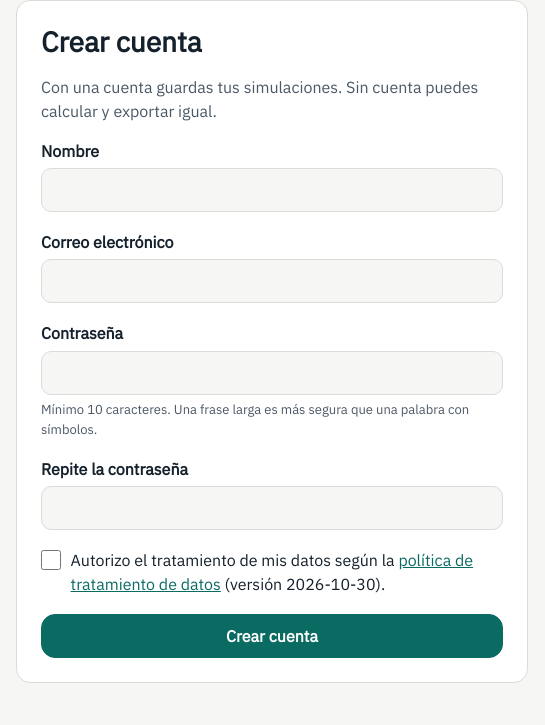
Scenario: ui/Registro (HU-01) › criterio HU-01: sin marcar la política no se crea la cuenta y se muestra el motivo
This screenshot has width=545, height=725.
Type "Ana Pérez" into the field labelled "Nombre" at point(272, 190), box [41,168,503,212]
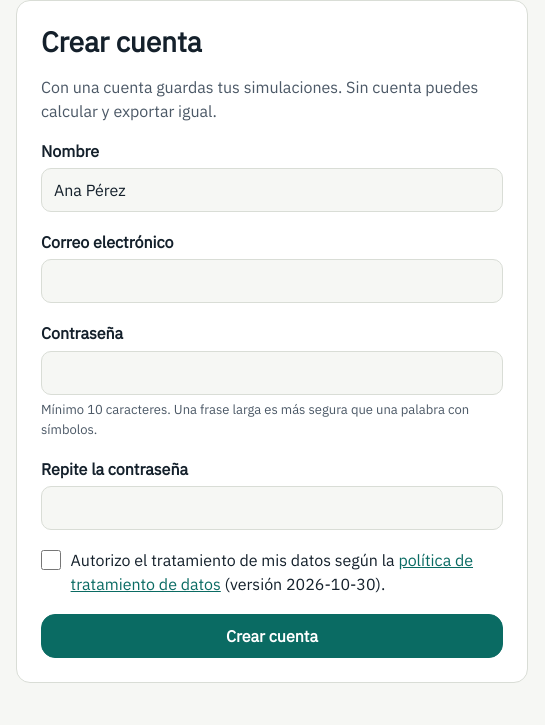
Type " Ana@Correo.co " into the field labelled "Correo electrónico" at point(272, 281), box [41,259,503,303]
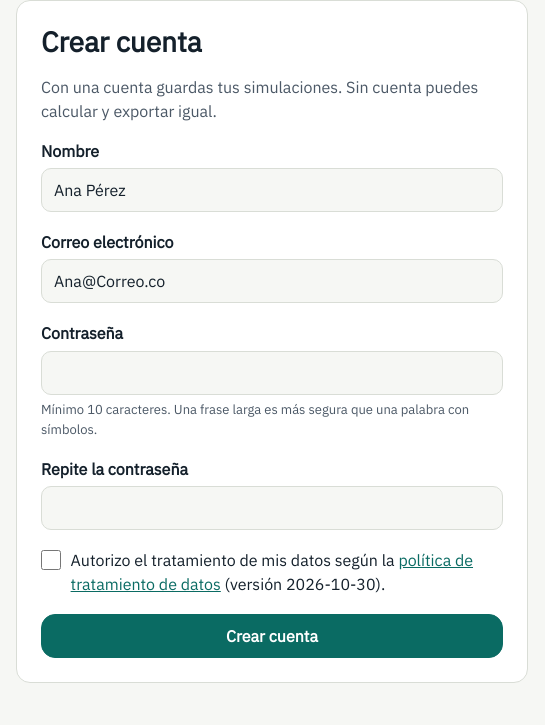
Type "una frase larga" into the password field labelled "Contraseña" at point(272, 373), box [41,351,503,395]
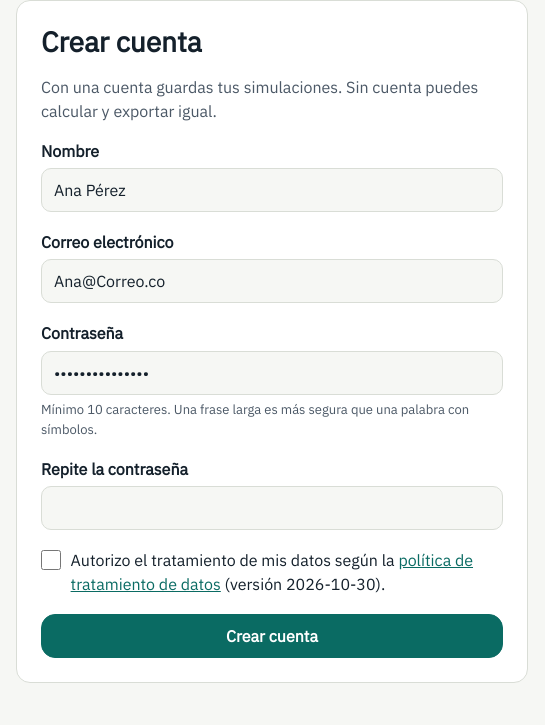
Type "una frase larga" into the password field labelled "Repite la contraseña" at point(272, 508), box [41,486,503,530]
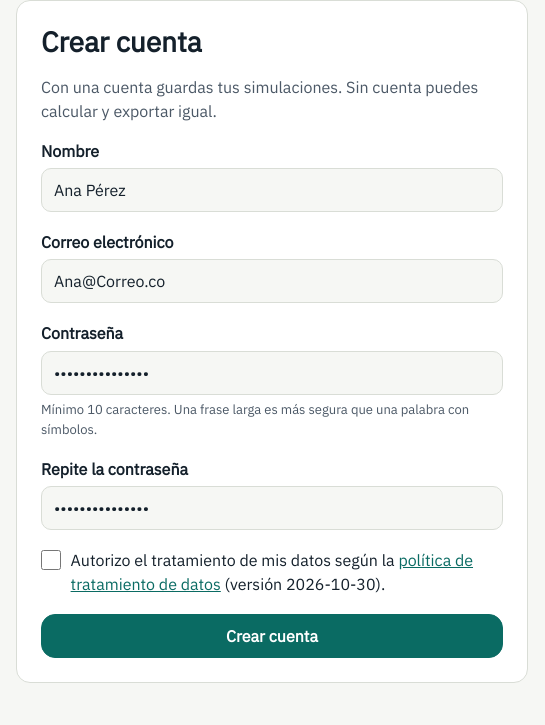
Click the button "Crear cuenta" at point(272, 636), box [41,614,503,658]
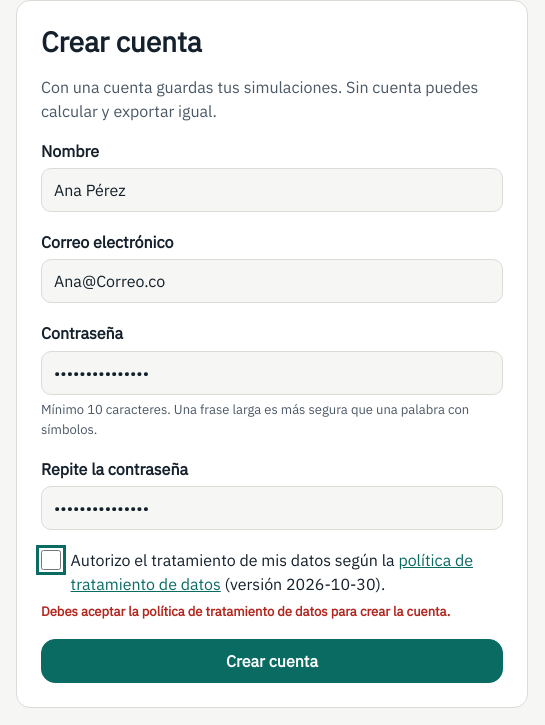
expect the text "Debes aceptar la política de tratamiento de datos para crear la cuenta." is shown: met, box [41,602,503,621]
